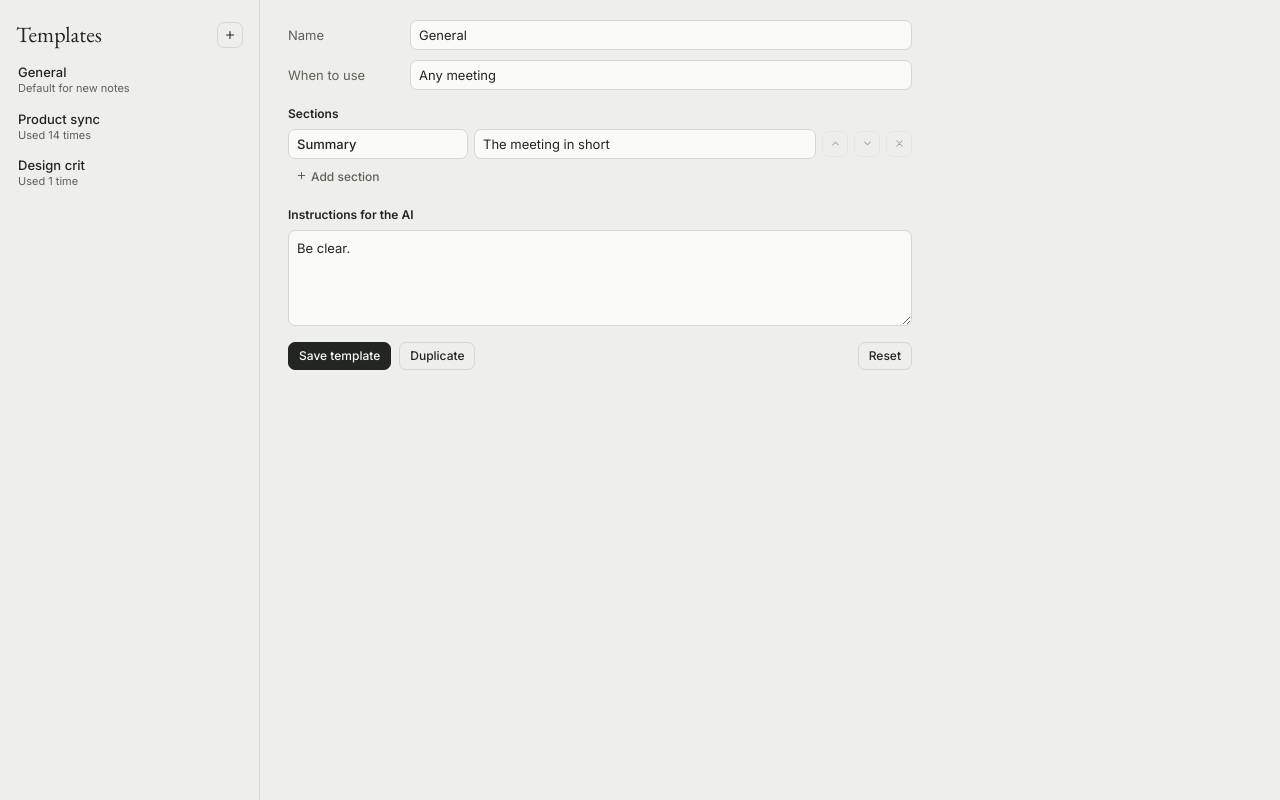
Test: TemplatesScreen › no_named_section_says_add_one
Expected: the text "Used 14 times" is shown, 18,128 -> 91,143
Click the button named "New template" at coordinates (230, 34), box 217,22 -> 243,48
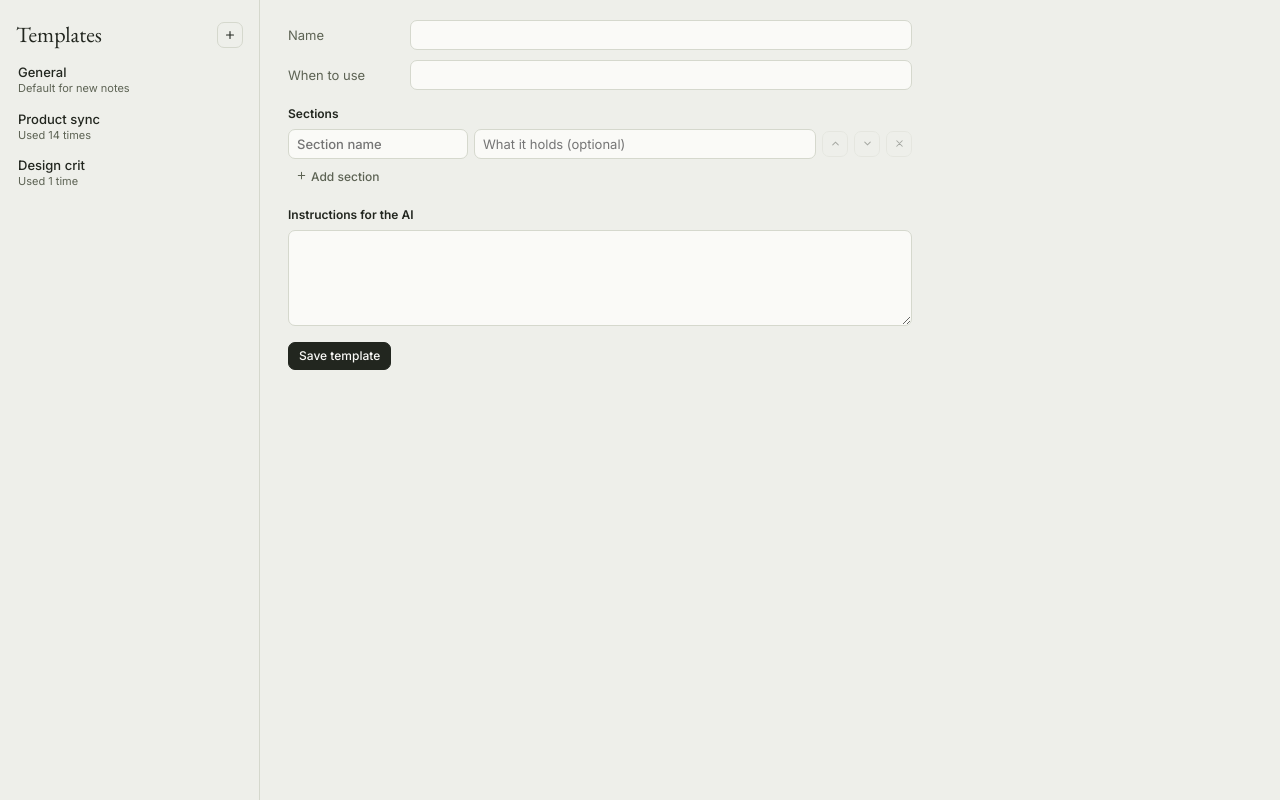
Type "Retro" into the field labelled "Name" at coordinates (661, 35), box 410,20 -> 912,50
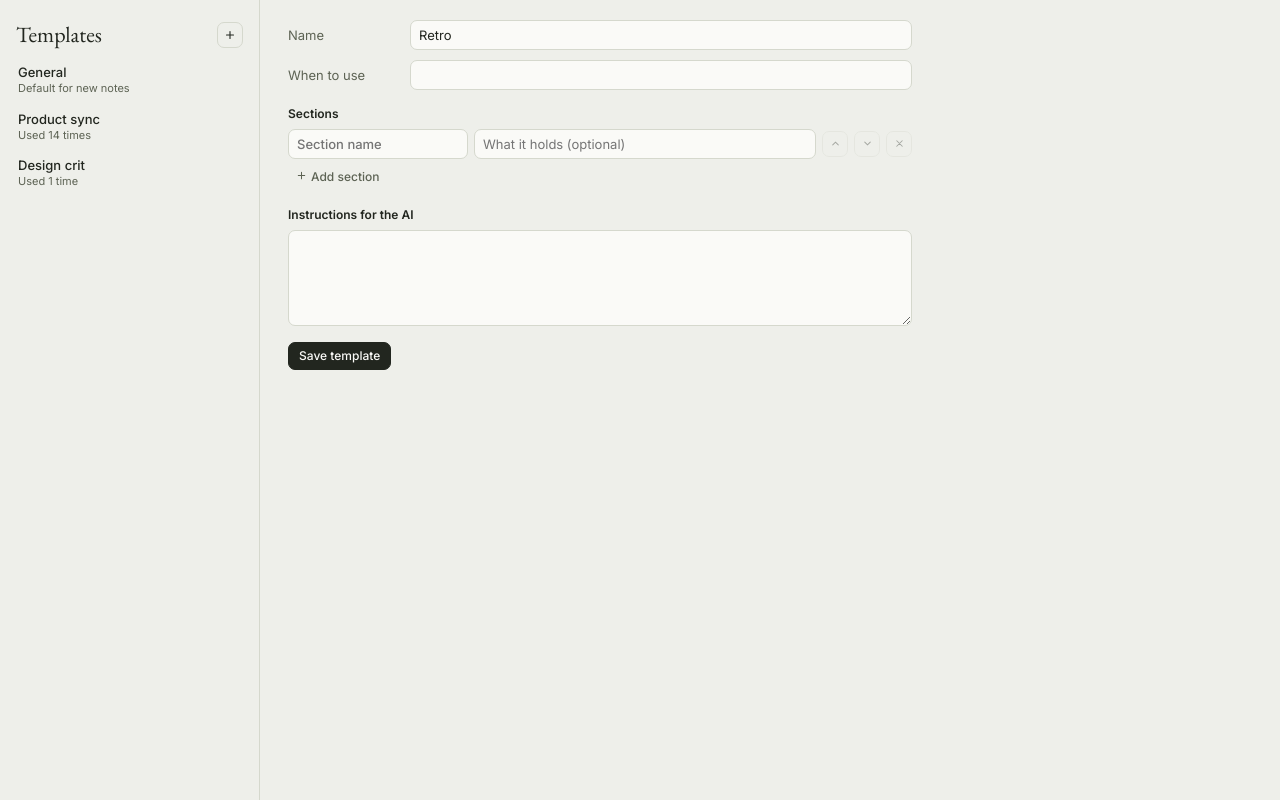
Click the button "Save template" at coordinates (340, 356), box 288,342 -> 391,370
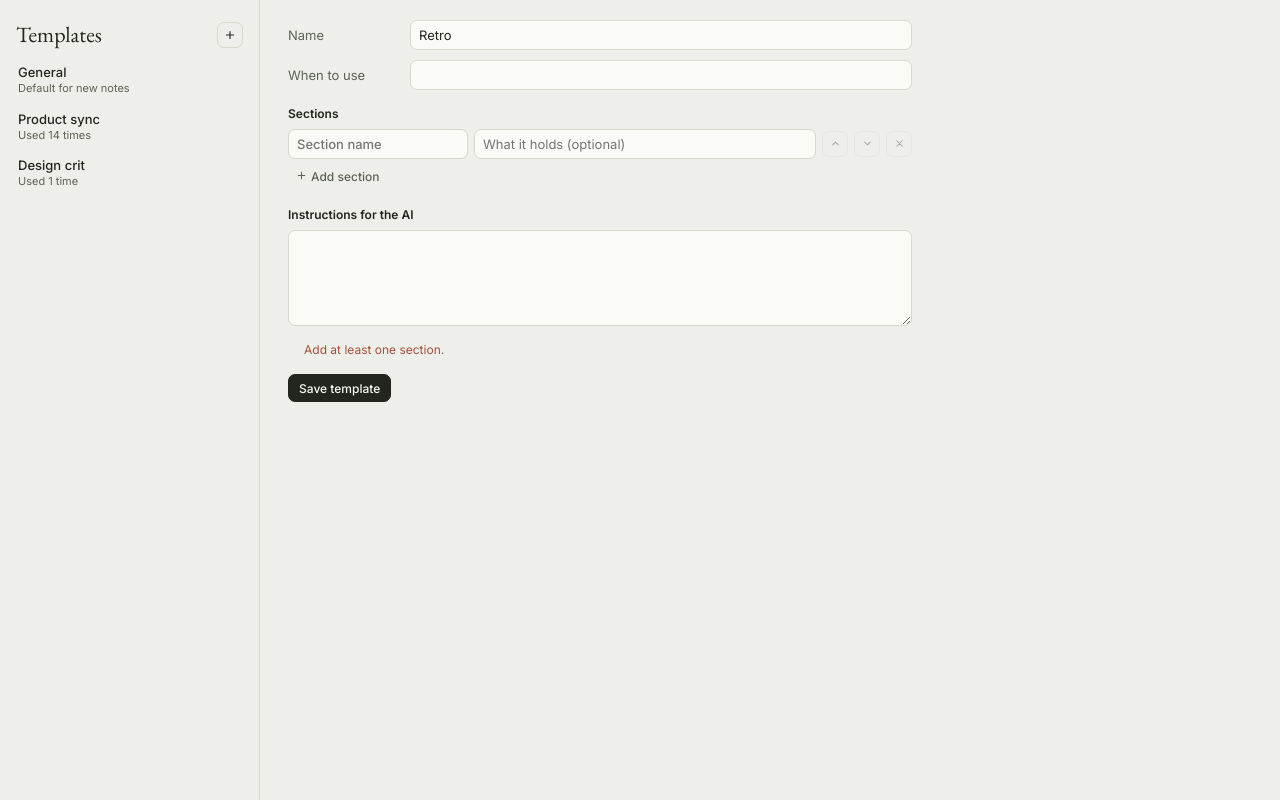
Now the message reads "Add at least one section.", box 304,342 -> 444,357
